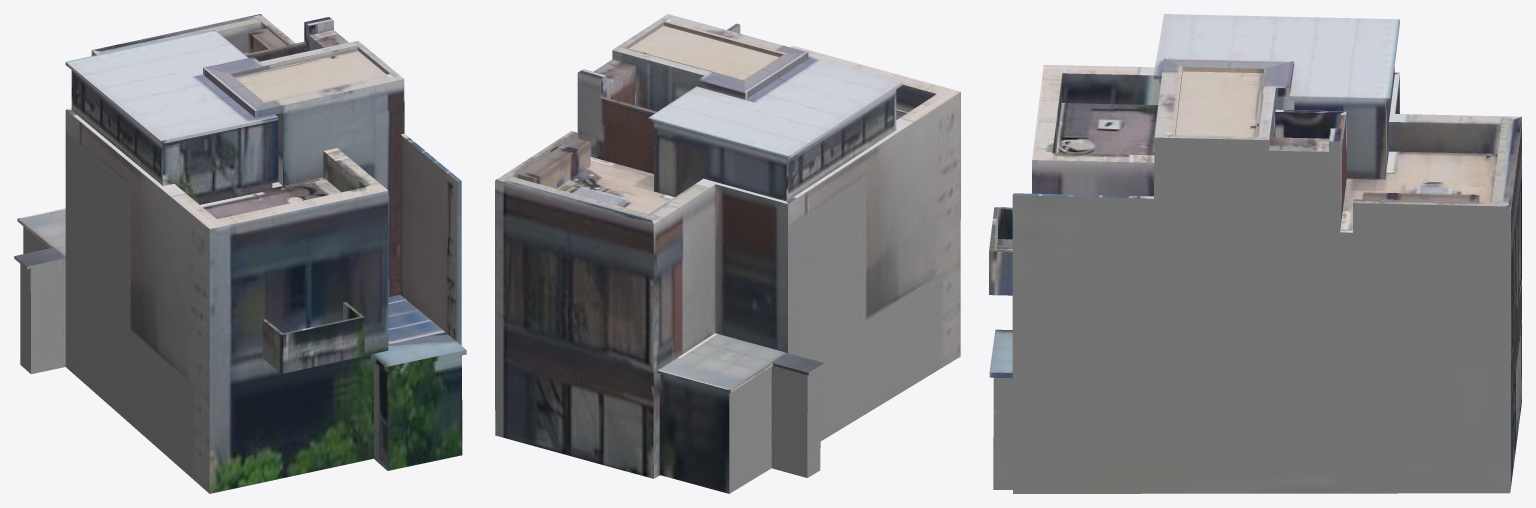
The picture shows the model from 3 angles, left to right: view 1: azimuth 30°, elevation 25°; view 2: azimuth 150°, elevation 25°; view 3: azimuth 270°, elevation 25°; orthographic projection. The views are drawn at different scales.
Parts seen in each view (by area): view 1: B285224030701062A0; view 2: B285224030701062A0; view 3: B285224030701062A0.
Boxes of the visible parts, bbox=[...] form: B285224030701062A0: bbox=[14, 14, 466, 493]; B285224030701062A0: bbox=[495, 14, 960, 493]; B285224030701062A0: bbox=[989, 14, 1521, 493].
Bounding box in the file's own units: 10.34 × 11.25 × 15.09.
1 material, 1 textured.
